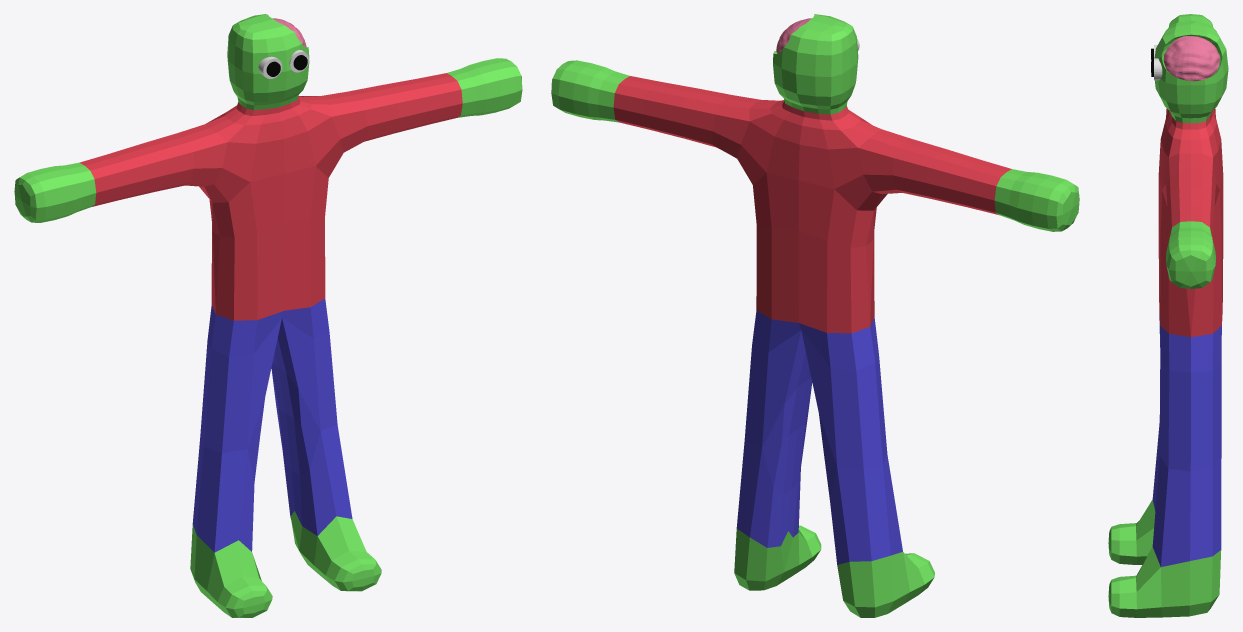
3 renders of one model, left to right at view 1: azimuth 30°, elevation 25°; view 2: azimuth 150°, elevation 25°; view 3: azimuth 270°, elevation 25°, orthographic. The views are drawn at different scales.
Parts seen in each view (by area): view 1: zombie_0; view 2: zombie_0; view 3: zombie_0.
Boxes of the visible parts, <box> form: zombie_0: <box>14,14,522,617</box>; zombie_0: <box>551,14,1079,617</box>; zombie_0: <box>1108,14,1228,617</box>.
Bounding box in the file's own units: 9.39 × 10.15 × 1.99.
